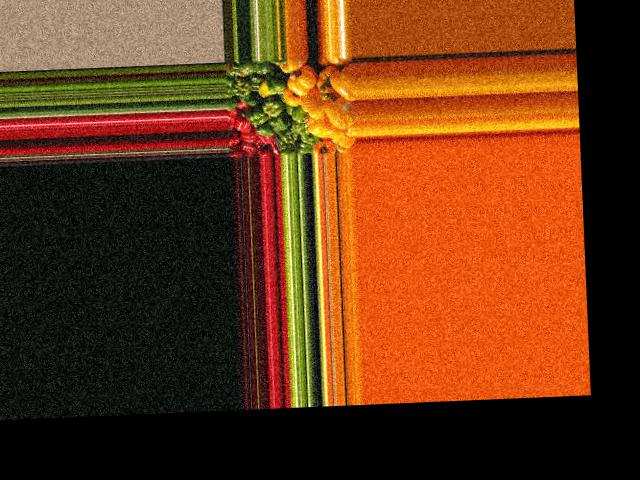bell_pepper: (225, 59, 248, 77)
